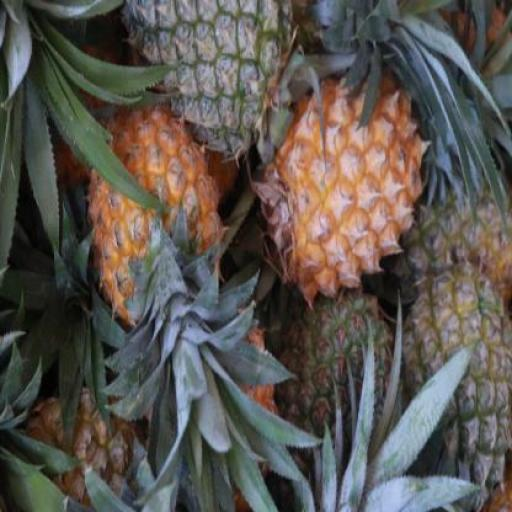------------------------------: (403, 270, 511, 499)
Pineapple - v8 v1: (259, 69, 424, 298), (86, 109, 224, 328)
